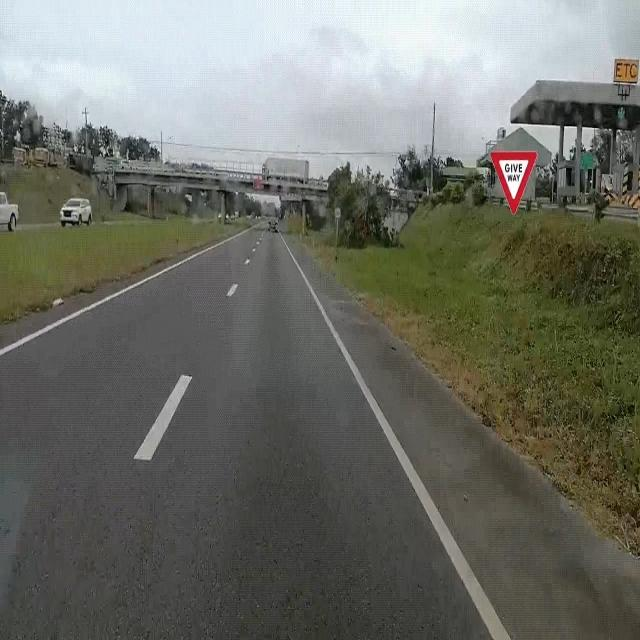Ceder-le-Passage: (487, 142, 539, 222)
